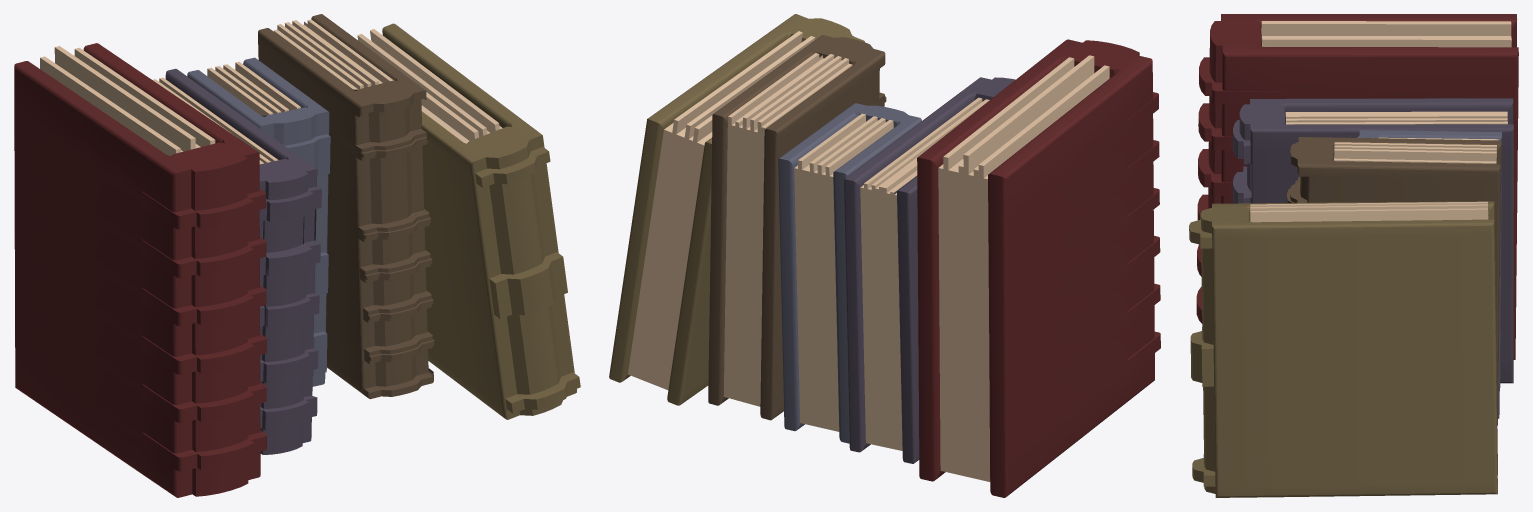
File: BooksLineUpFive.fbx
3 renders of one model, left to right at view 1: azimuth 30°, elevation 25°; view 2: azimuth 150°, elevation 25°; view 3: azimuth 270°, elevation 25°, orthographic. The views are drawn at different scales.
Parts seen in each view (by area): view 1: jOINEDBooks4; view 2: jOINEDBooks4; view 3: jOINEDBooks4.
Boxes of the visible parts, x1,y1,x2,y2 form: jOINEDBooks4: (14,14,580,497); jOINEDBooks4: (609,14,1160,497); jOINEDBooks4: (1189,14,1518,497).
Bounding box in the file's own units: 46.7 × 36.69 × 34.34.
